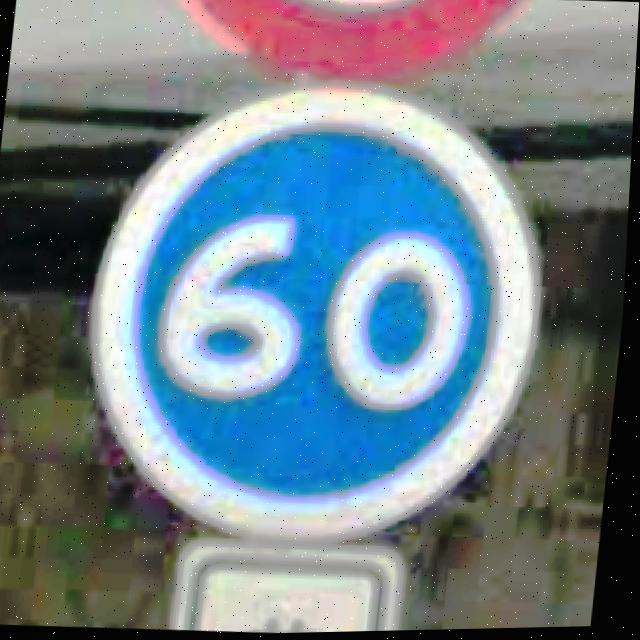min60: (70, 66, 567, 555)
